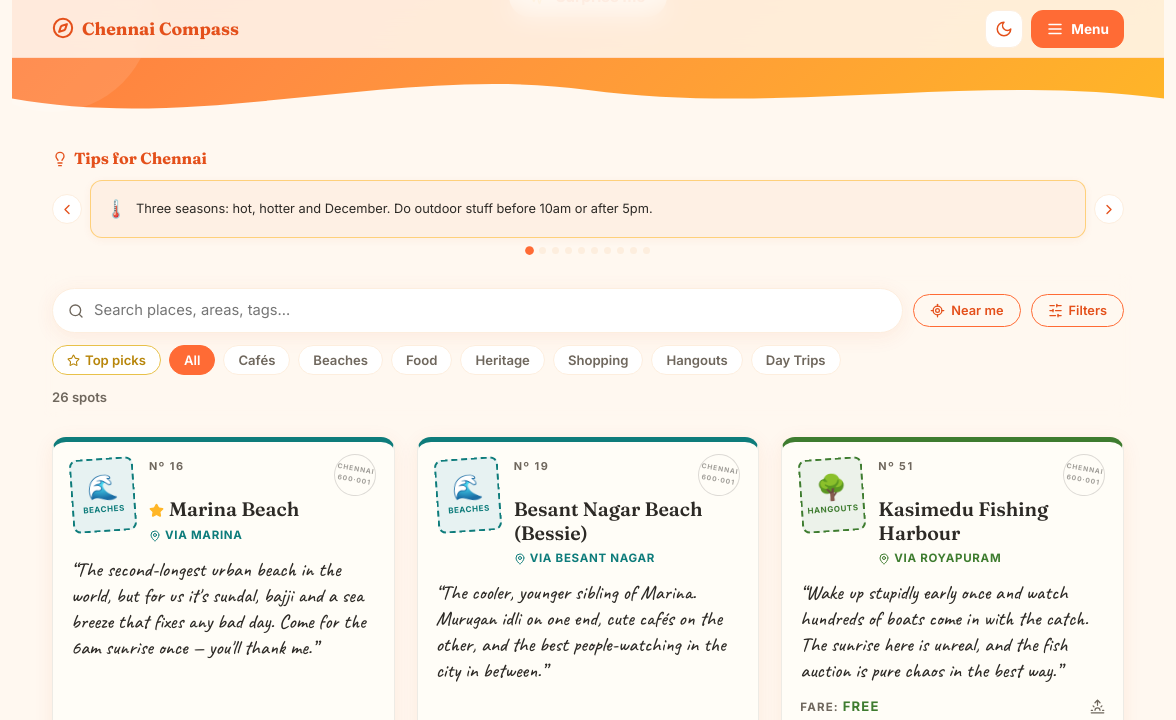
Scenario: top picks filter › narrows the grid to top picks and combines with a category
(page scrolled)
Click the button "Top picks".
click(106, 360)  # box [52, 345, 161, 375]
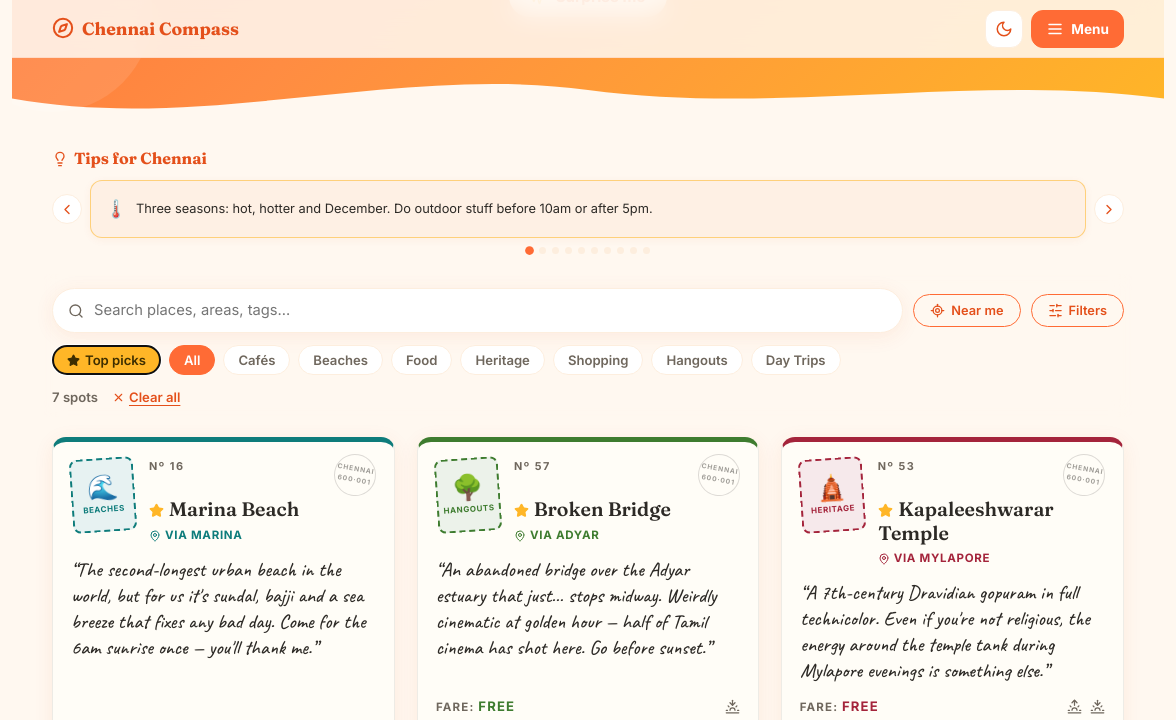
Check: the heading "Marina Beach" is shown, box [149, 497, 299, 521]
Click the button "Heritage".
click(503, 360)  # box [460, 345, 545, 375]
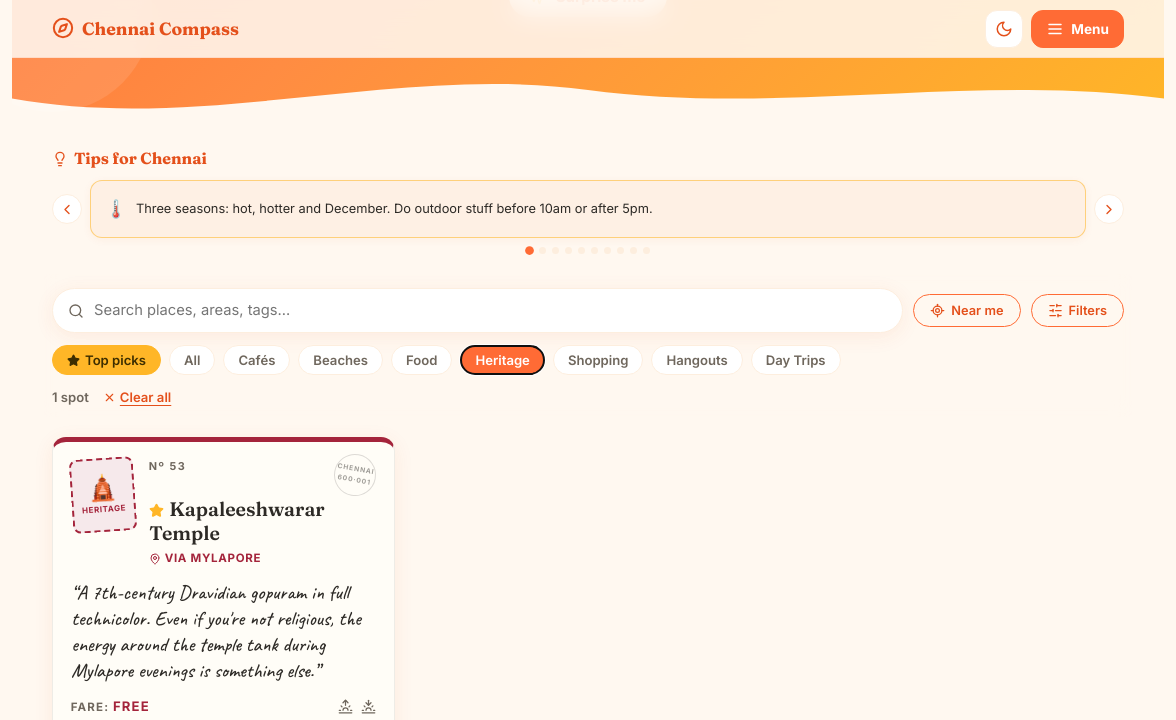
Check: the heading "Kapaleeshwarar Temple" is shown, box [149, 497, 324, 545]
Check: the link "Marina Beach" is gone
